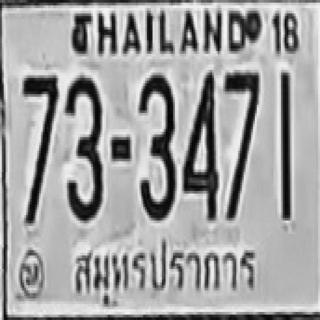N01: (279, 69, 290, 206)
N03: (63, 74, 100, 219), (138, 73, 175, 218)
N04: (181, 70, 219, 218)
N07: (22, 71, 58, 219), (223, 70, 259, 215), (223, 70, 259, 167), (22, 73, 58, 167)
P57: (72, 239, 261, 305)
